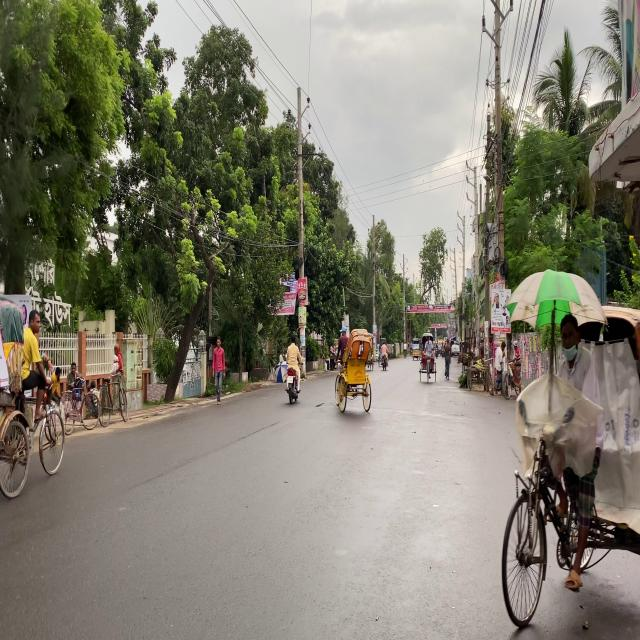bike: (281, 352, 307, 409)
rickshaw: (499, 289, 629, 616), (0, 274, 64, 513), (330, 326, 376, 419), (415, 332, 441, 384)
